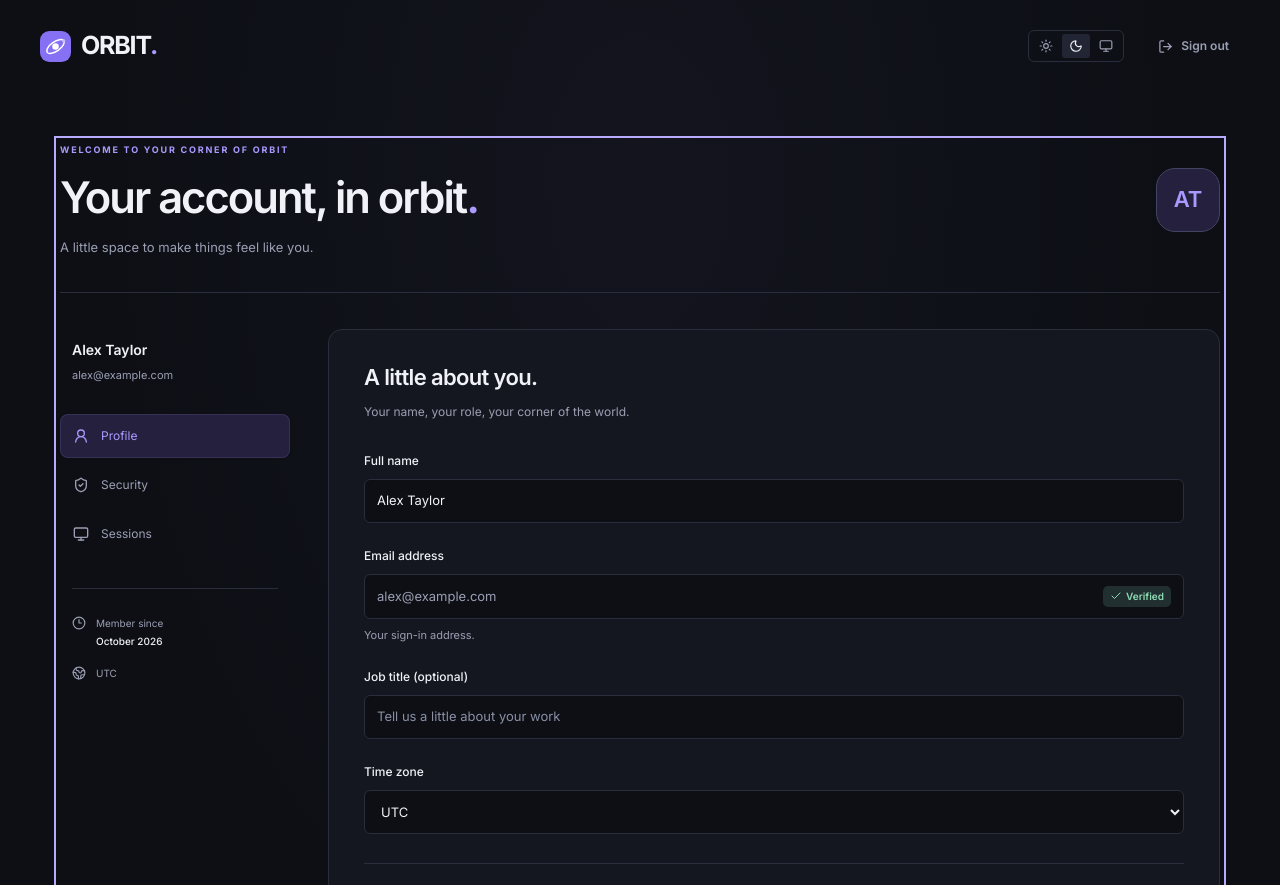
Test: Account forms and session boundaries › preserves the signed-in account when a current-password check returns invalid credentials
Expected: the heading "Your account, in orbit." is shown, x1=60 y1=171 x2=478 y2=224
Click the tab "Security": (175, 484) x1=60 y1=462 x2=290 y2=506
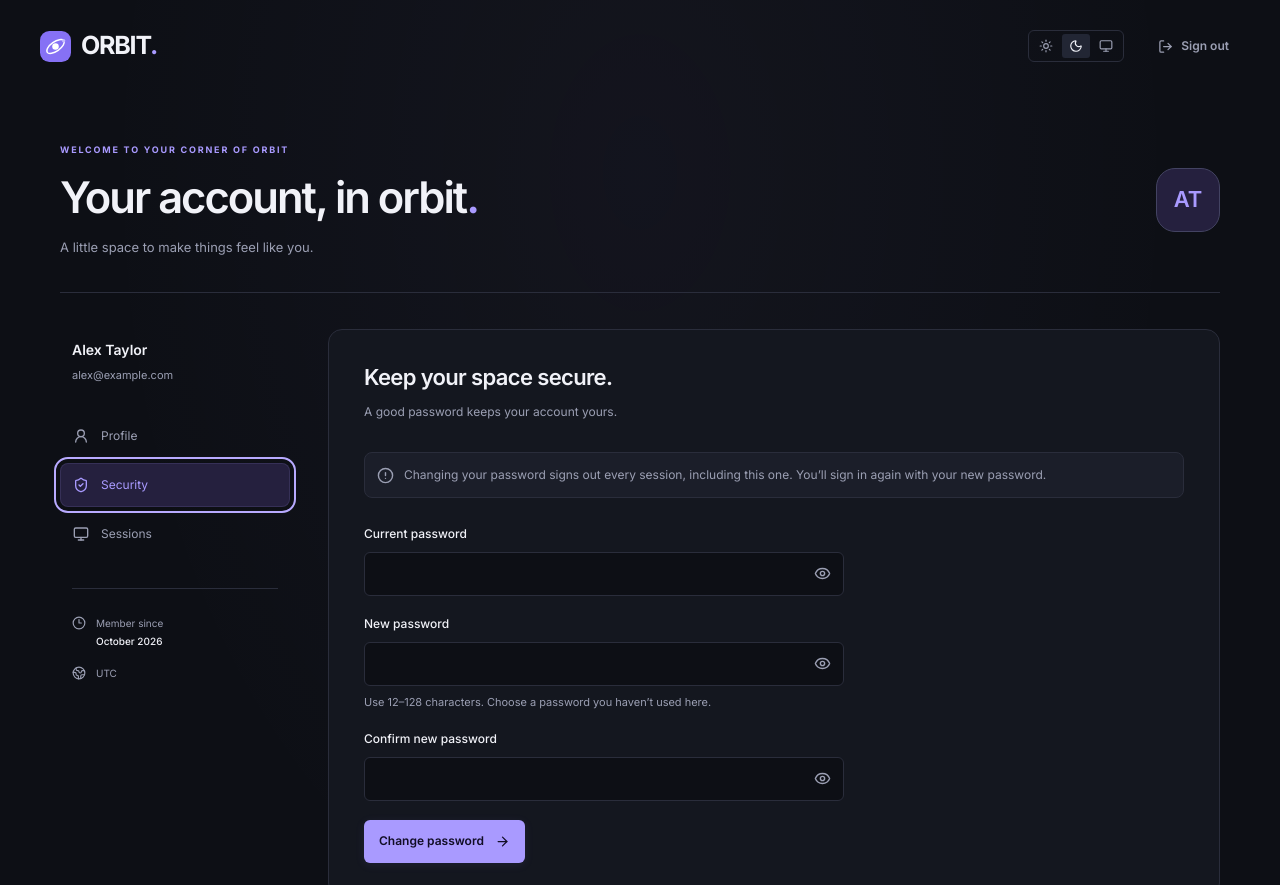
In the password field labelled "Current password": (604, 574) x1=364 y1=552 x2=844 y2=596, type "Incorrect current password"
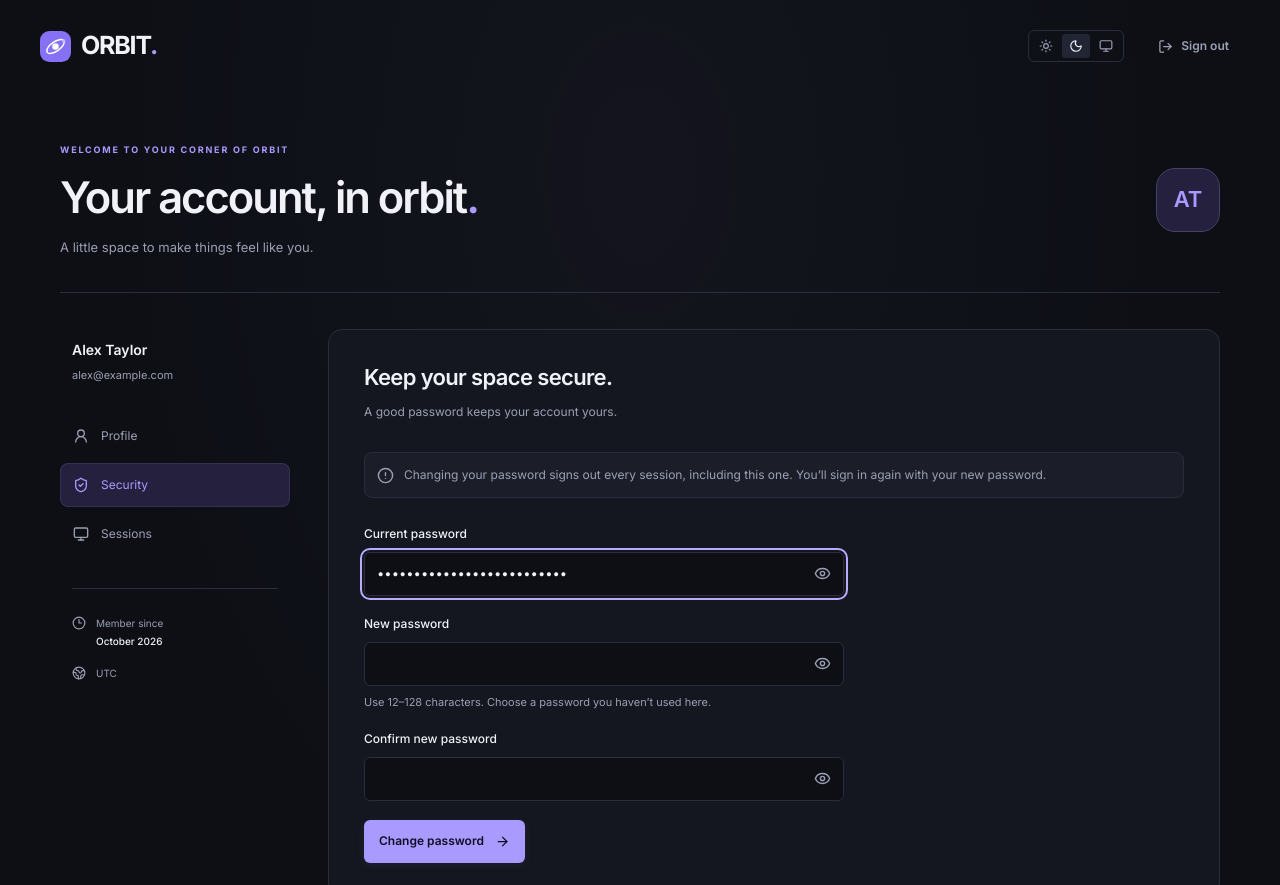
In the password field labelled "New password": (604, 664) x1=364 y1=642 x2=844 y2=686, type "A brand new password 42!"
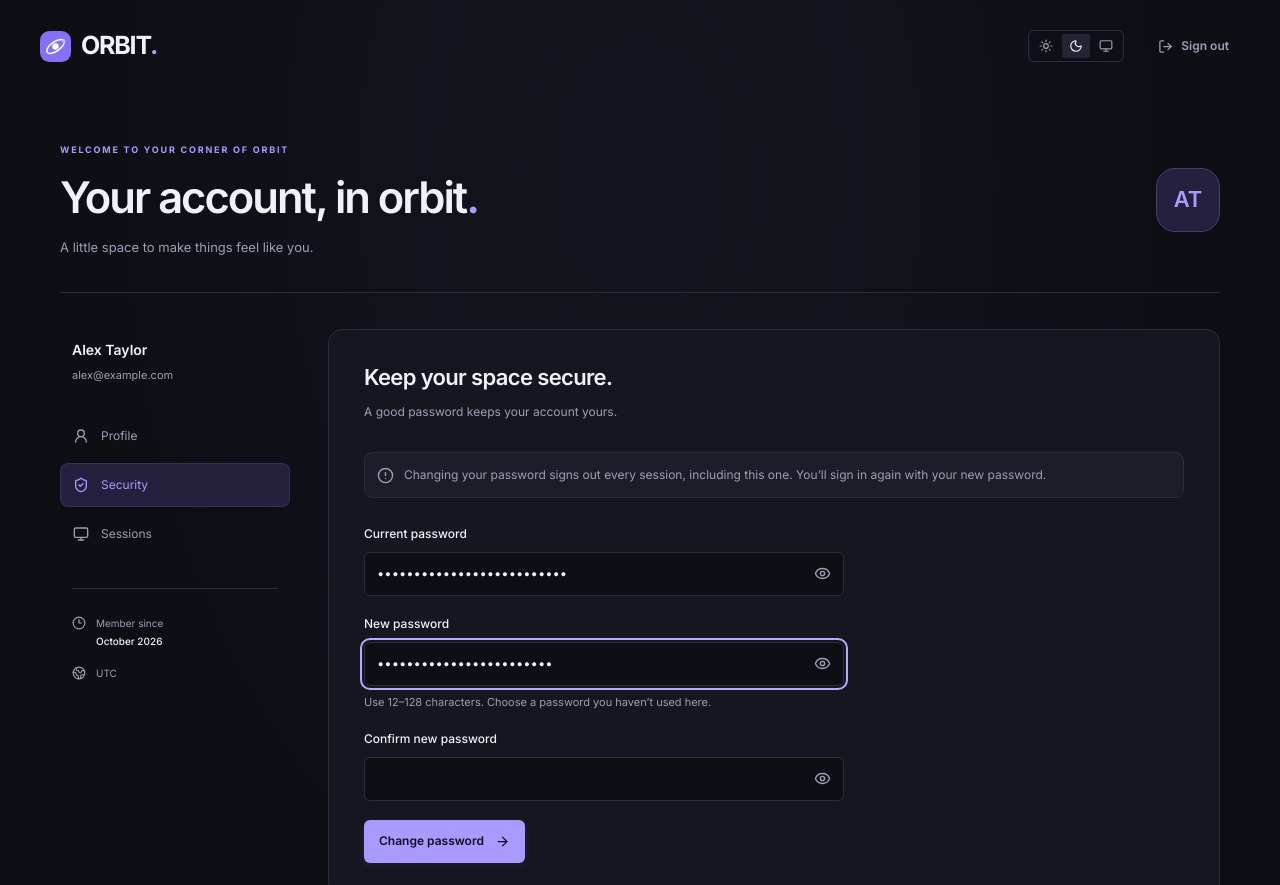
In the password field labelled "Confirm new password": (604, 779) x1=364 y1=757 x2=844 y2=801, type "A brand new password 42!"
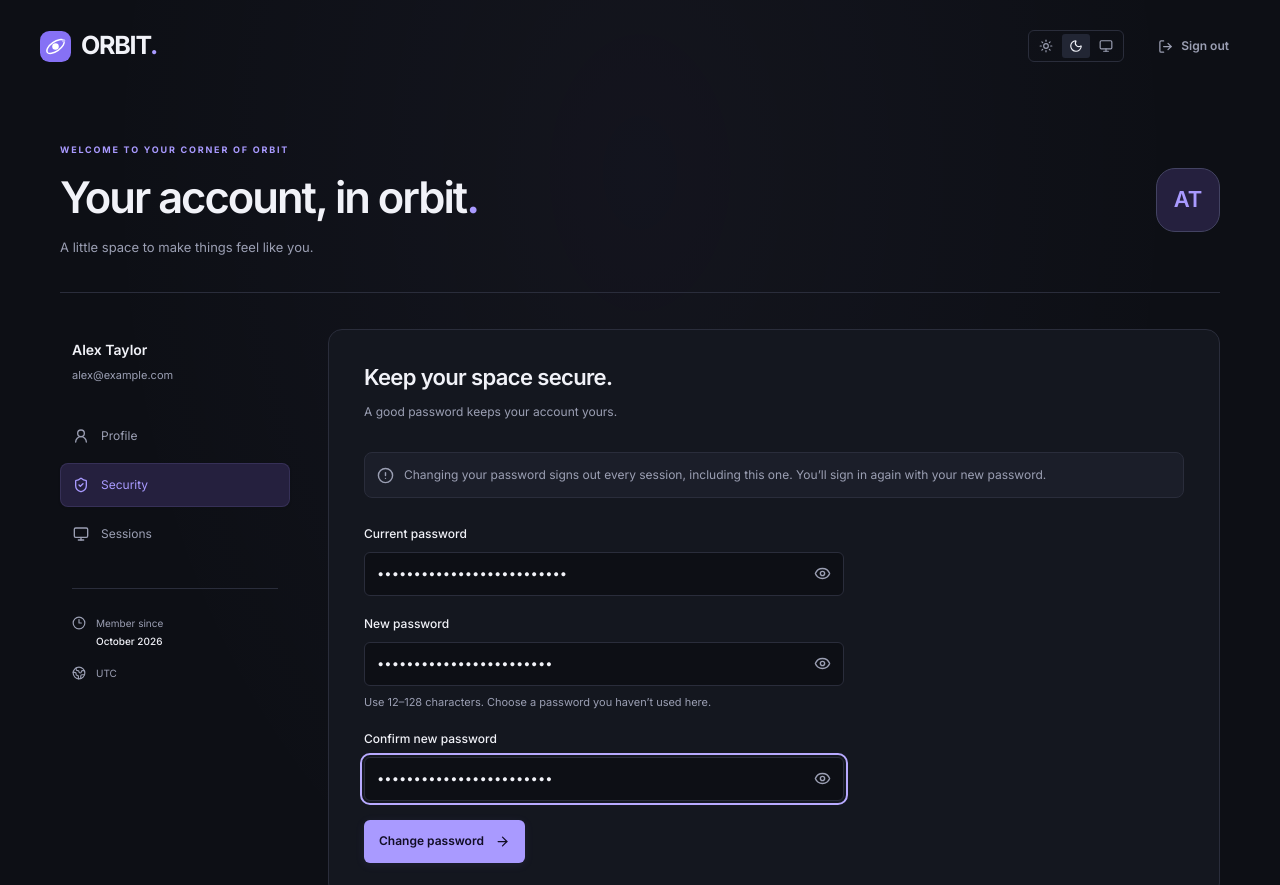
Click the button "Change password": (444, 841) x1=364 y1=820 x2=525 y2=863
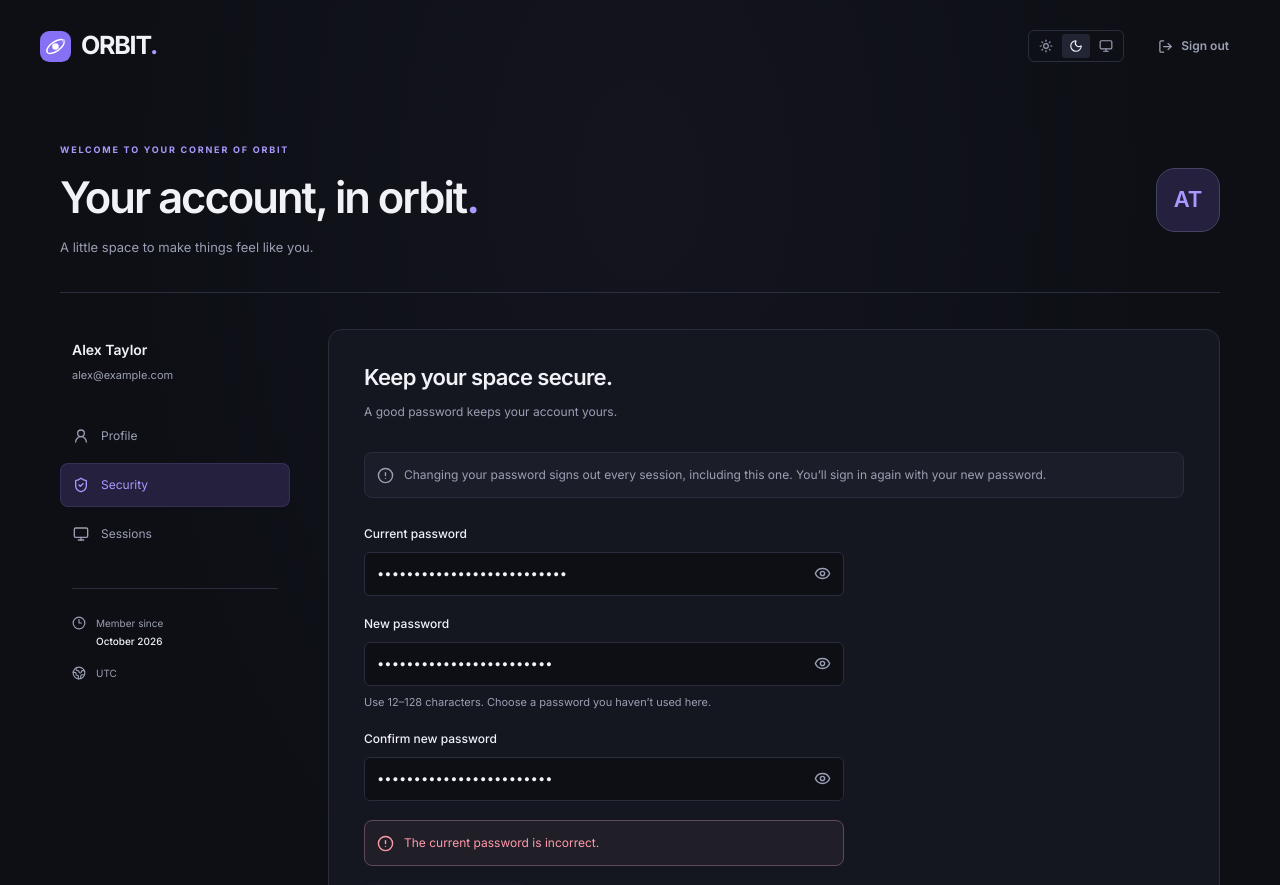
Expected: the heading "Your account, in orbit." is shown, x1=60 y1=171 x2=478 y2=224
Now the message "The current password is incorrect." is shown, box x1=364 y1=820 x2=844 y2=866
